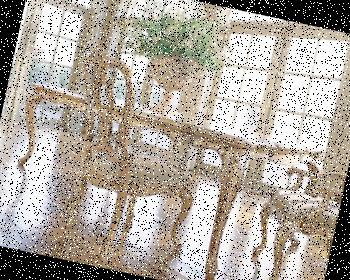Mesa: (0, 79, 334, 279)
Silla: (43, 44, 222, 272), (243, 148, 349, 279)
